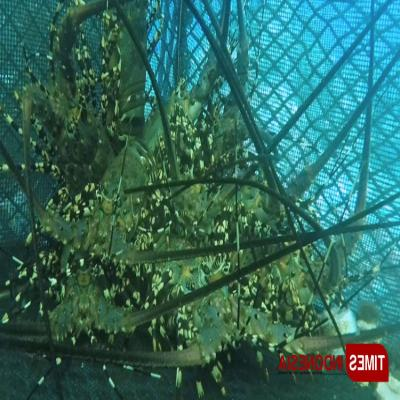lobster: (157, 250, 232, 369), (41, 90, 113, 178), (90, 162, 150, 260), (56, 259, 106, 345), (151, 72, 202, 146)
